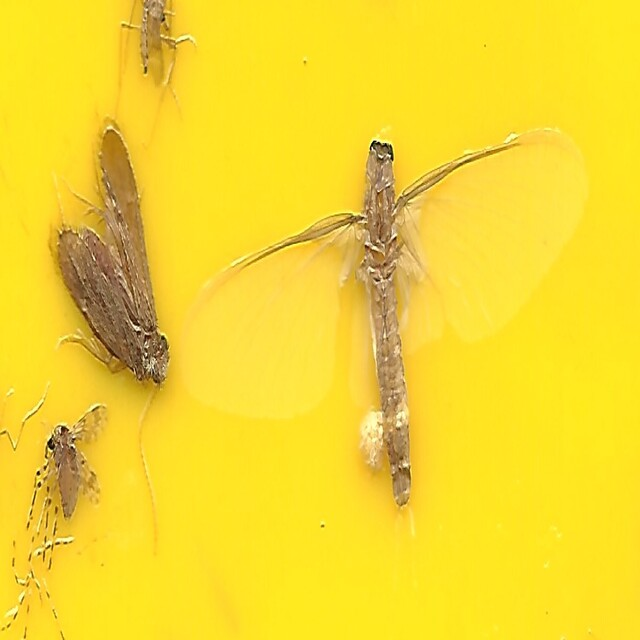Ephemeroptera: (175, 117, 587, 523)
Trichoptera: (53, 122, 174, 402)
